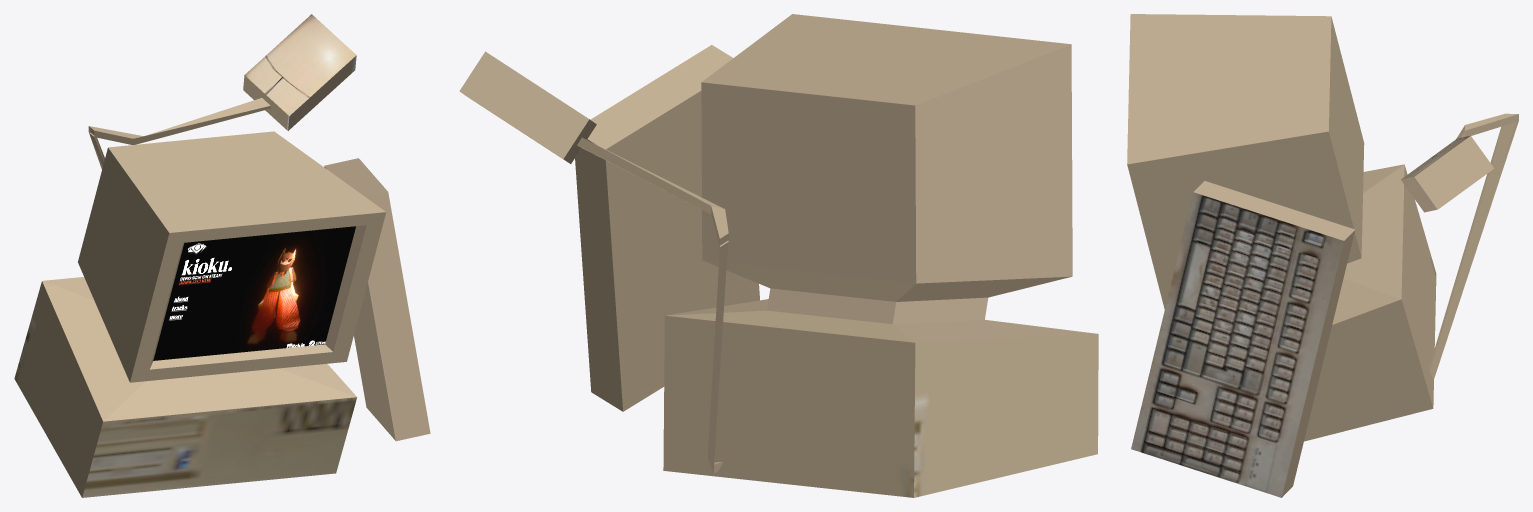
File: computer.glb
The picture shows the model from 3 angles, left to right: view 1: azimuth 30°, elevation 25°; view 2: azimuth 150°, elevation 25°; view 3: azimuth 270°, elevation 25°; orthographic projection. The views are drawn at different scales.
Parts seen in each view (by area): view 1: computer; view 2: computer; view 3: computer.
Boxes of the visible parts, <box> form: computer: <box>14,14,430,497</box>; computer: <box>459,14,1098,497</box>; computer: <box>1127,14,1518,497</box>.
Size of the model in its own units: 5.96 by 5.21 by 4.81.
Materials: 1 (1 with a texture image).
